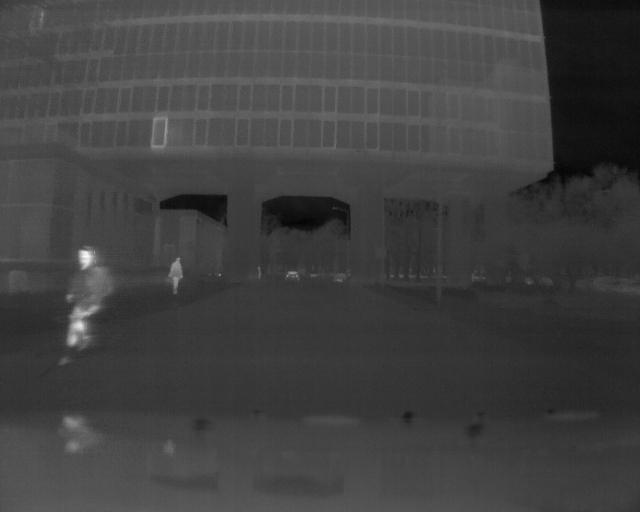car: (282, 269, 300, 281)
person: (55, 239, 112, 364), (165, 252, 185, 308)
